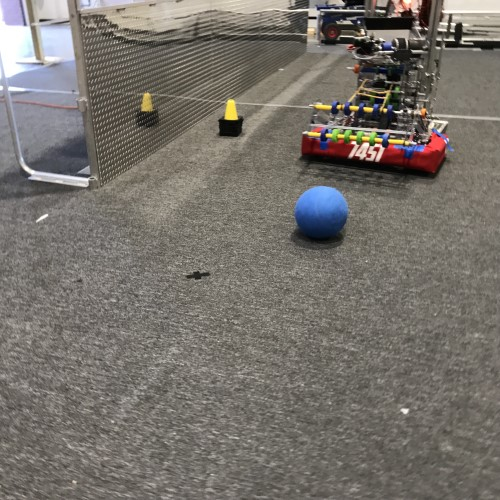blue: (291, 183, 349, 242)
